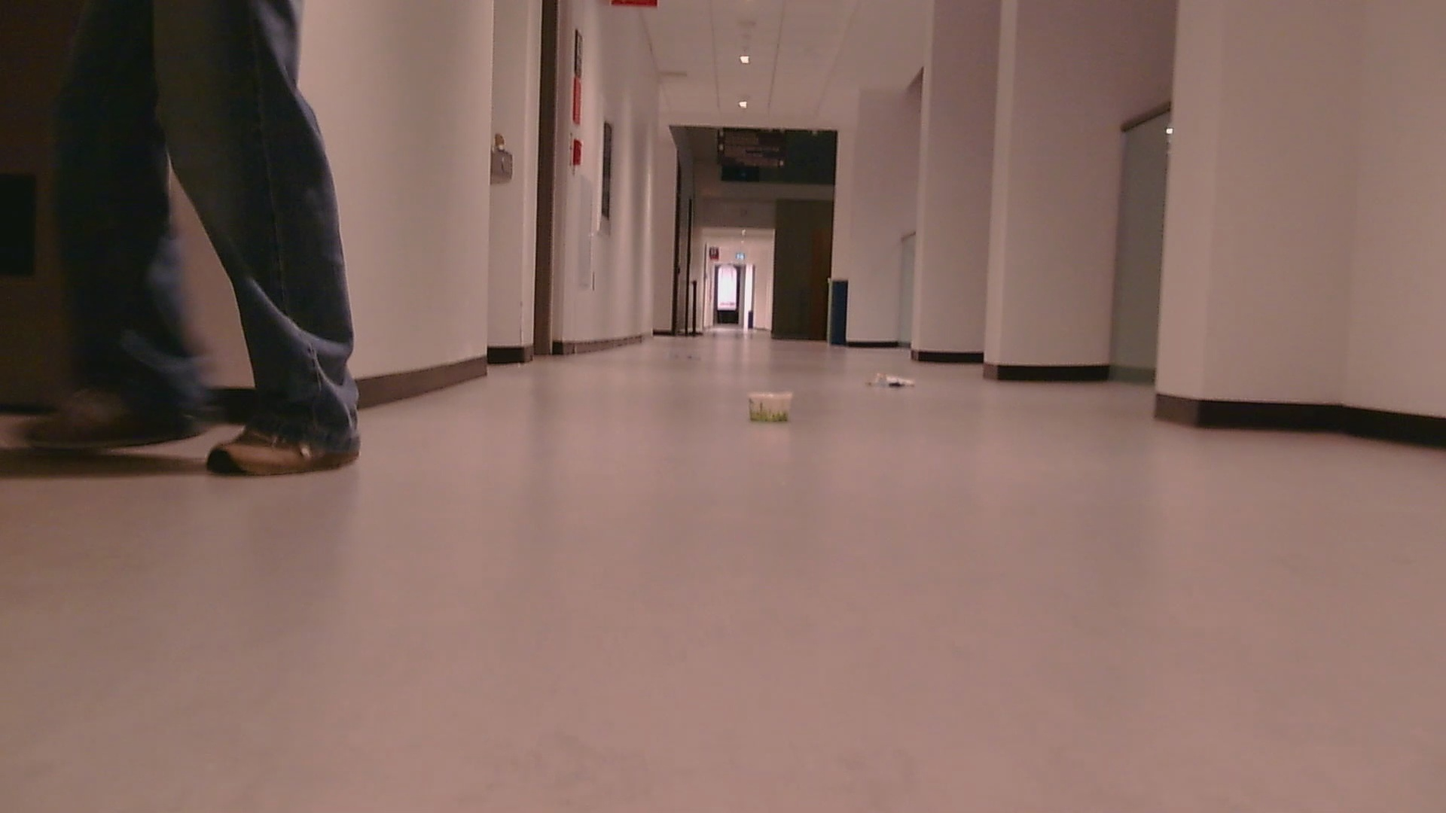carton: (734, 376, 809, 433), (860, 364, 933, 397)
